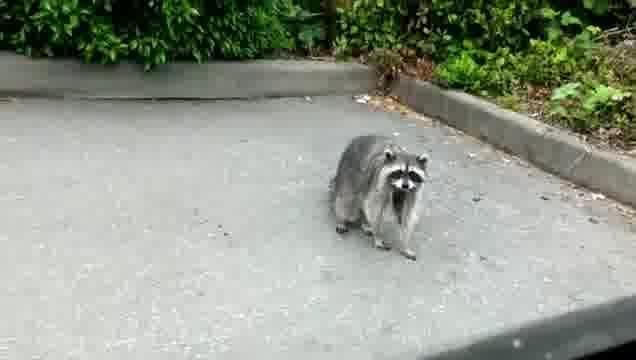raccoon: (325, 130, 437, 265)
